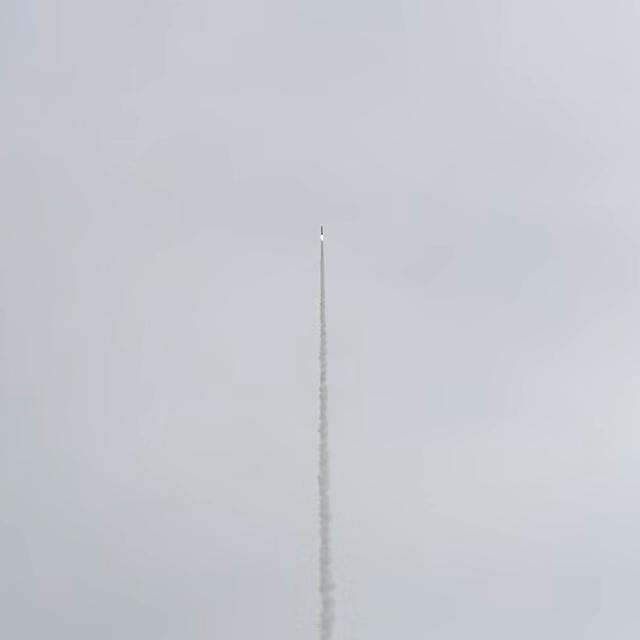smoke_trail_with_rocket: (317, 226, 334, 640)
